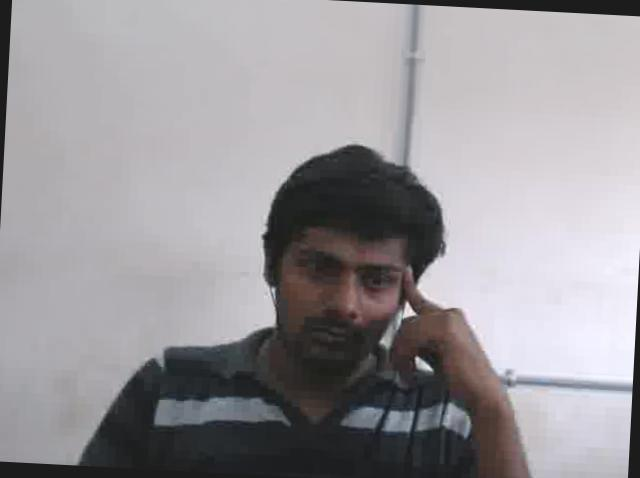bosan: (273, 220, 407, 376)
